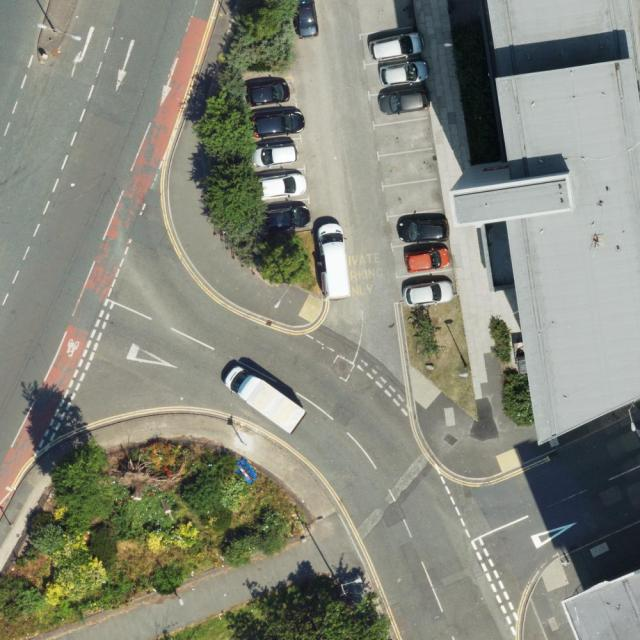roof: (451, 0, 640, 448), (561, 567, 640, 640)
